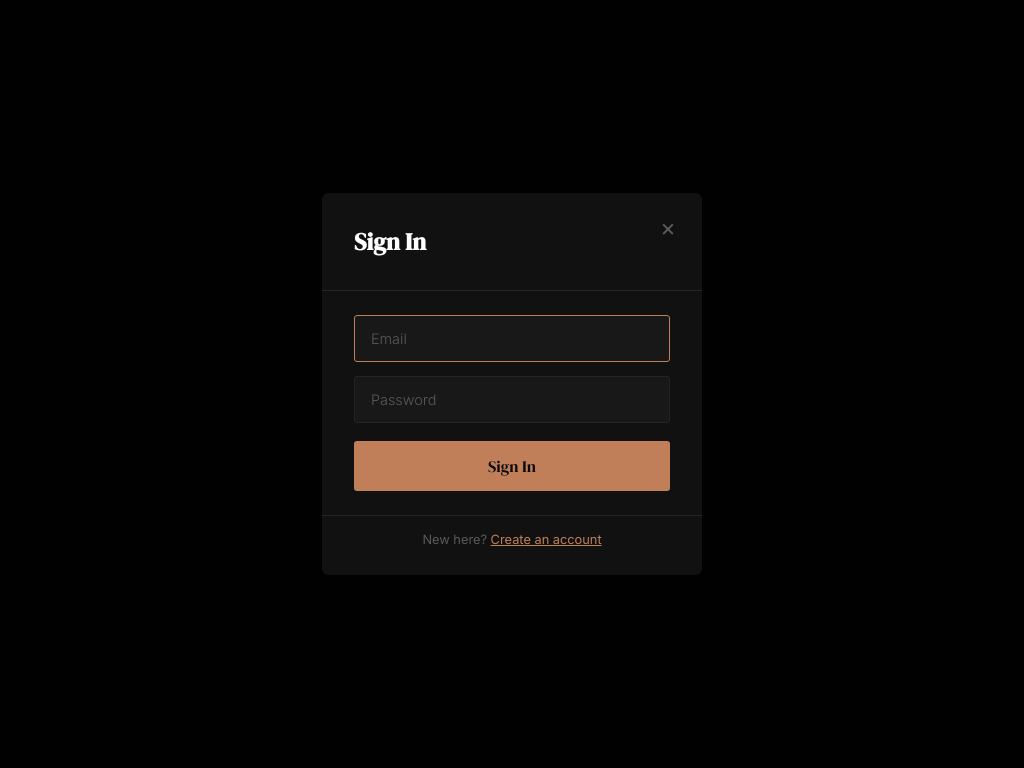
Test case: AuthModal › loading state › shows "Please wait..." and disables submit while loading
Type "alicia@example.com" into the field with placeholder "Email" at (512, 338), box left=354, top=315, right=670, bottom=362
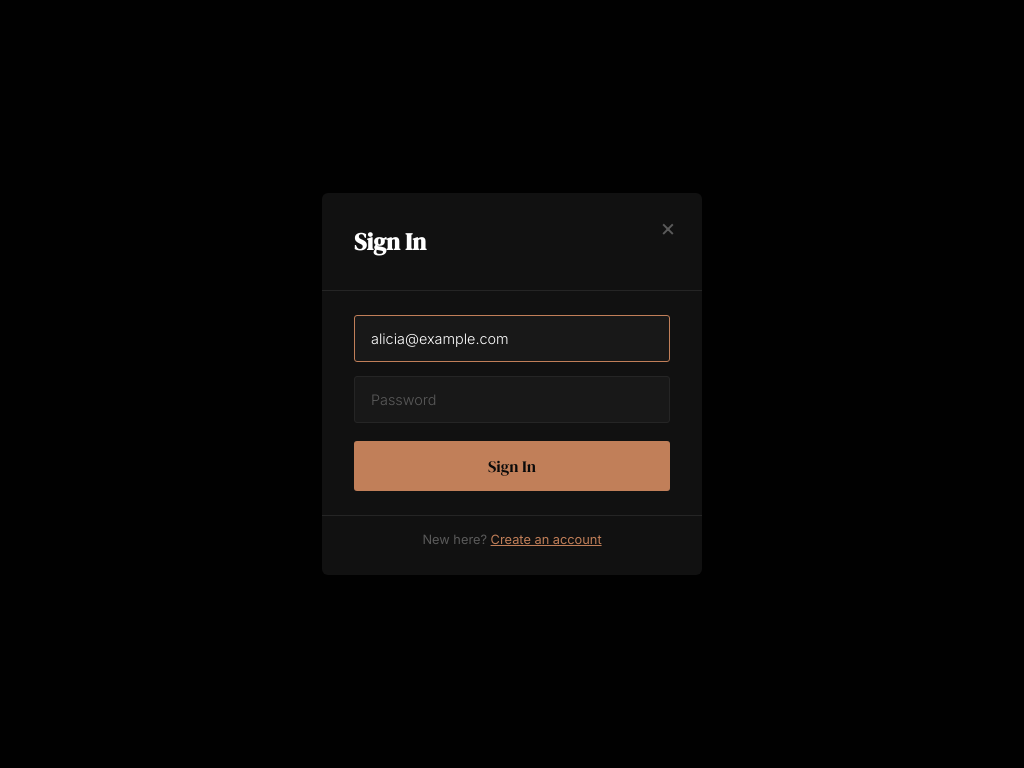
Type "password123" into the password field with placeholder "Password" at (512, 400), box left=354, top=376, right=670, bottom=423
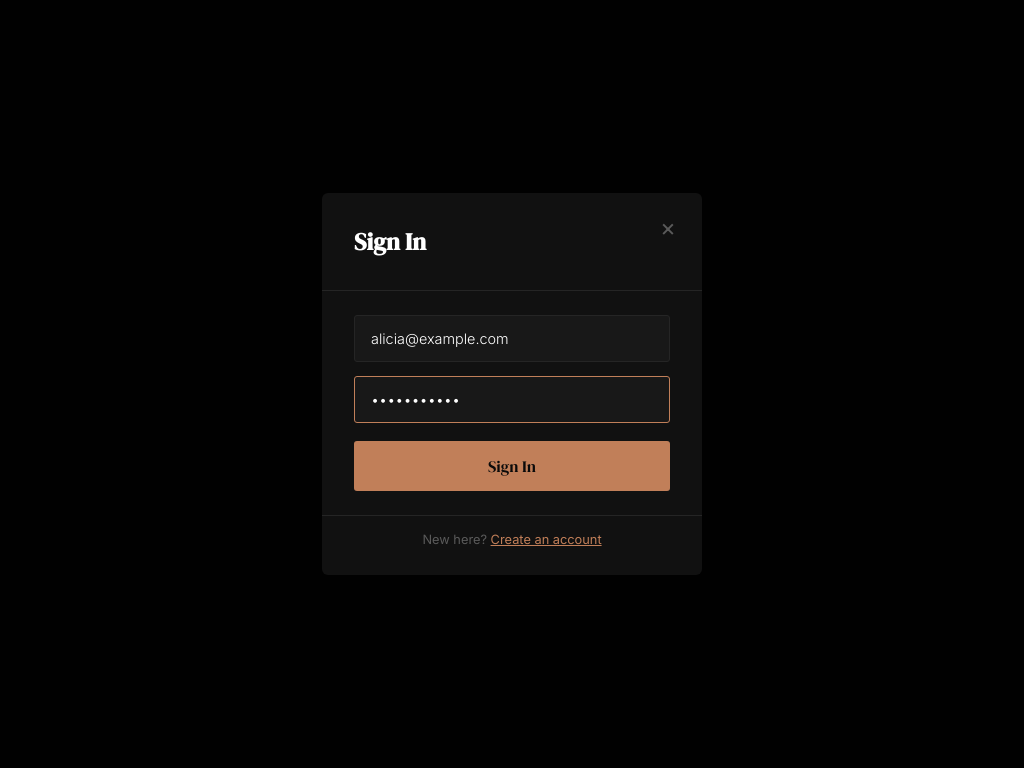
Click the button "Sign In" at (512, 466), box left=354, top=441, right=670, bottom=491
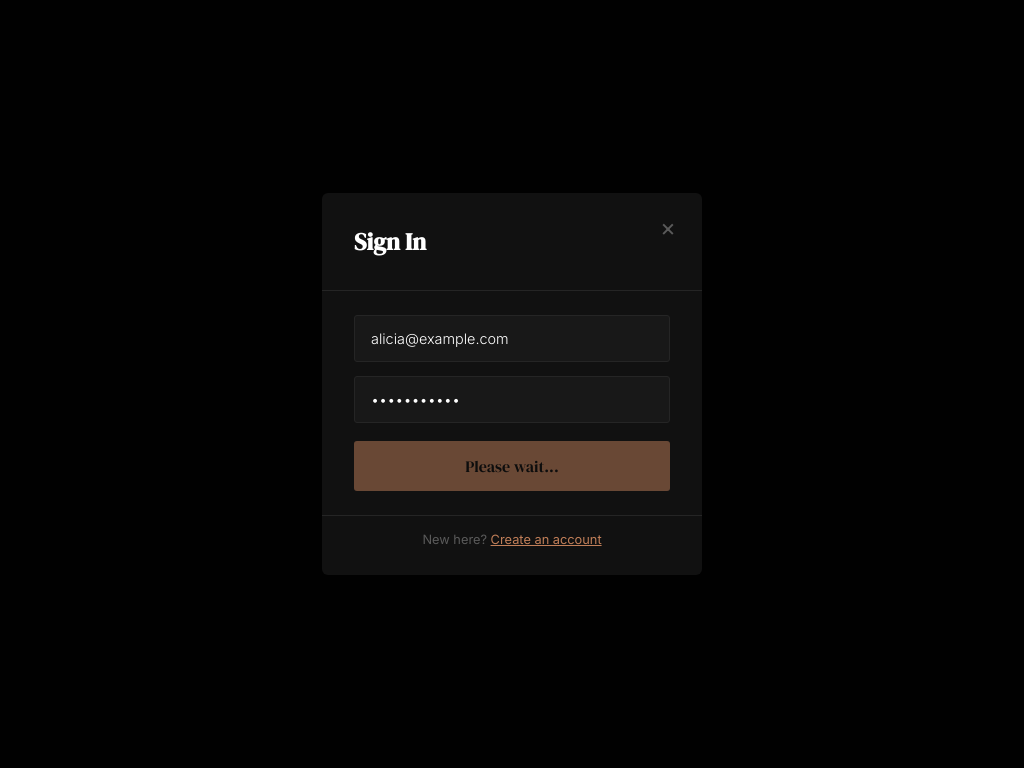
Now the button "Please wait..." is disabled, box left=354, top=441, right=670, bottom=491
